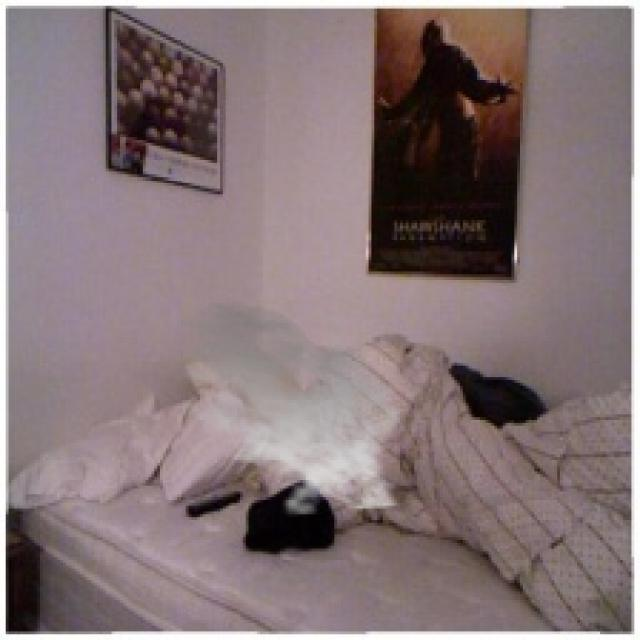Smoke: (160, 300, 412, 517)
